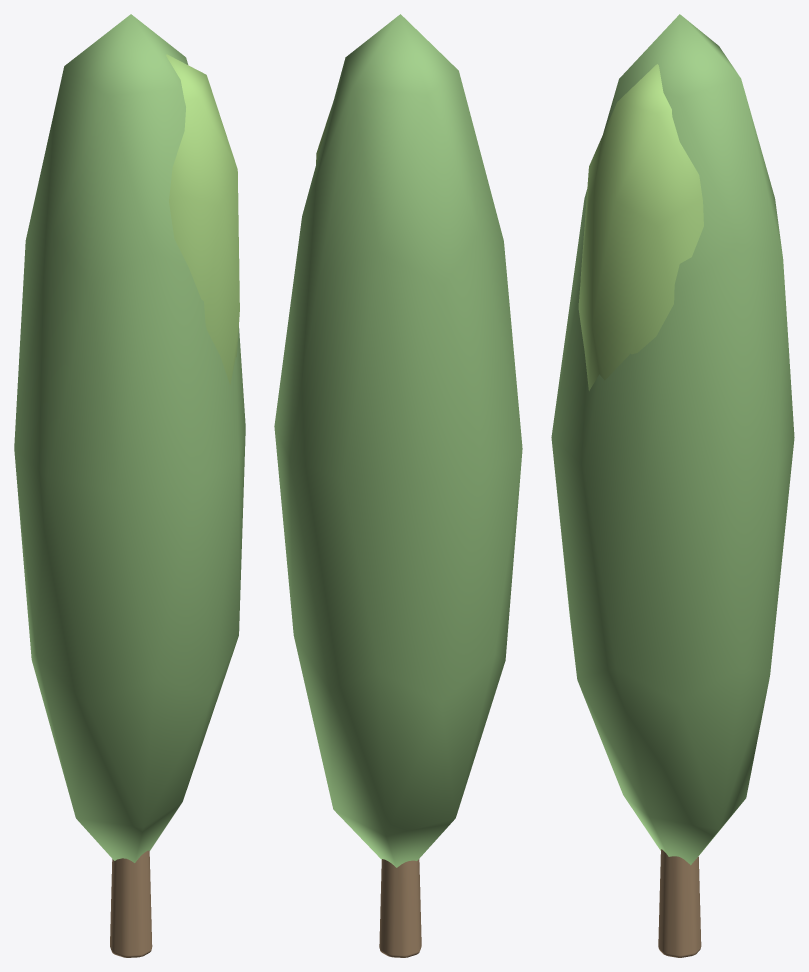
The model's file is tree_poplar.fbx.
The picture shows the model from 3 angles, left to right: view 1: azimuth 30°, elevation 25°; view 2: azimuth 150°, elevation 25°; view 3: azimuth 270°, elevation 25°; orthographic projection.
Parts seen in each view (by area): view 1: Visual; view 2: Visual; view 3: Visual.
Part boxes in pixels (<box>): Visual: <box>14,14,245,957</box>; Visual: <box>274,14,522,957</box>; Visual: <box>551,14,794,957</box>.
Size of what is drawn, in the model's own units: 213 by 913 by 215.
